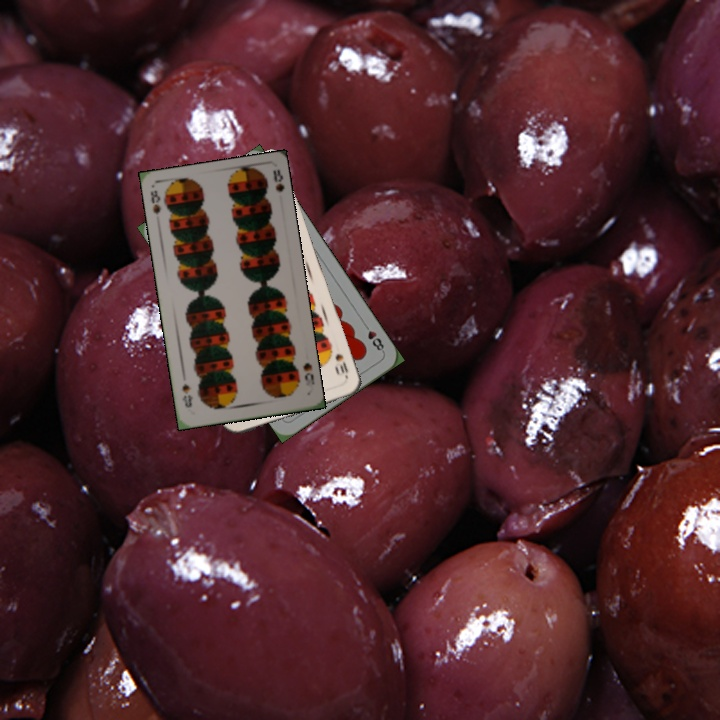H8: (359, 319, 387, 355)
S10: (331, 350, 351, 376)
S8: (299, 358, 317, 393), (146, 186, 164, 217)
